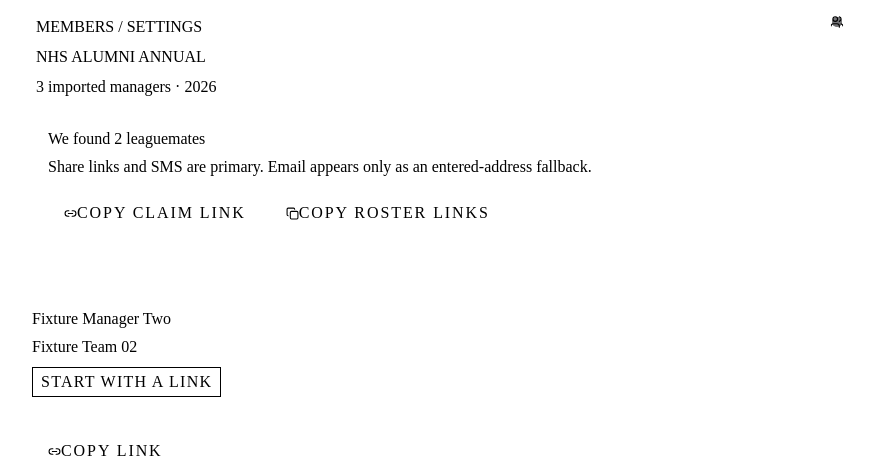
Test: invite view surfaces a clipboard rejection from the bare copy buttons
This screenshot has width=881, height=475.
Click the button "Copy claim link".
click(155, 213)  # box [48,191,262,235]
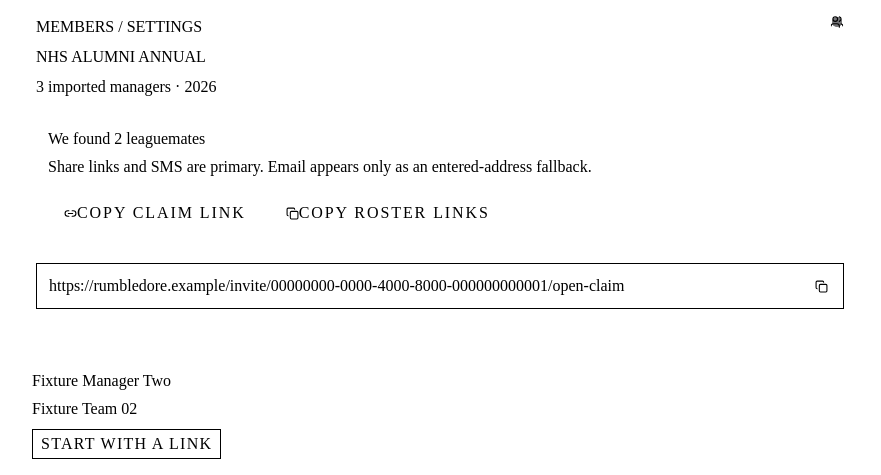
expect the field named "League claim link" is shown: met, box [37,264,799,308]
Click the button named "Copy league claim link".
click(821, 286)  # box [799,264,843,308]
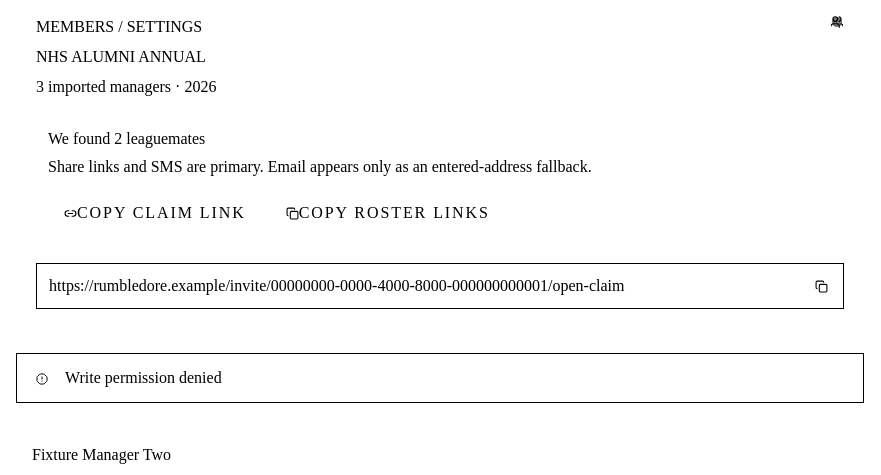
expect the text "Write permission denied" is shown: met, box [65,369,222,386]
